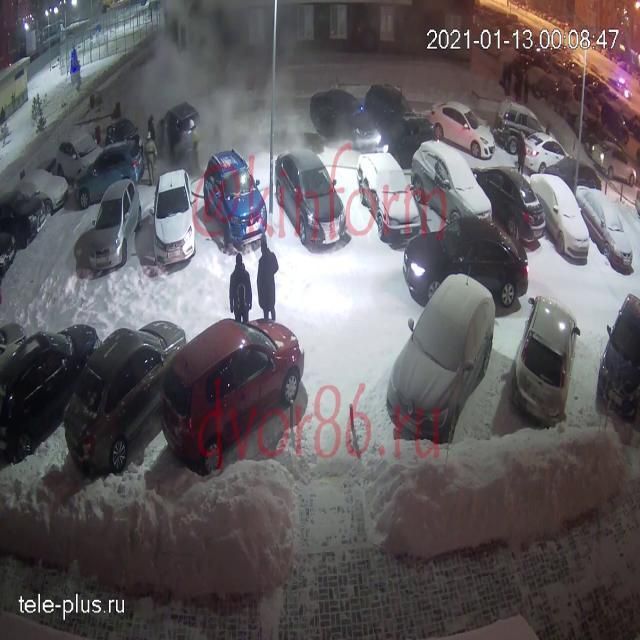Smoke: (134, 0, 322, 160)
